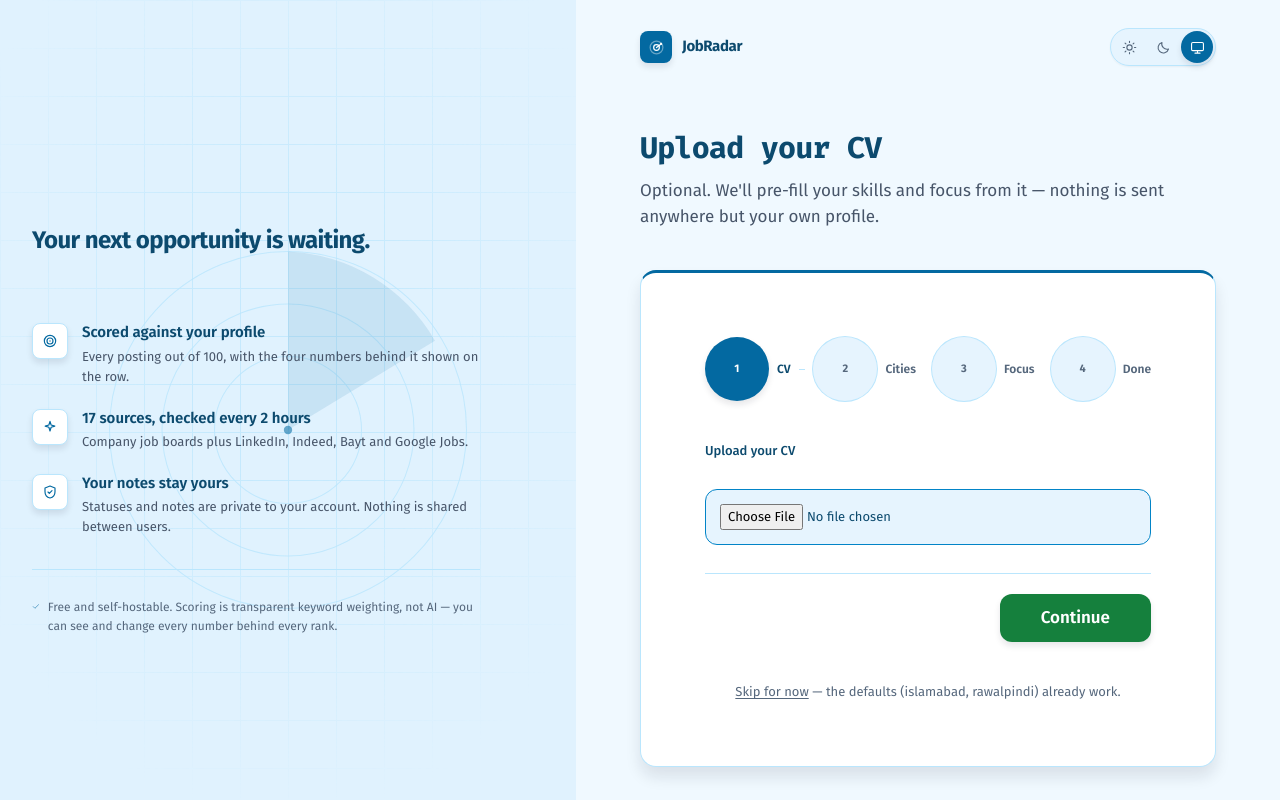
Test: onboarding › defaults to Islamabad and Rawalpindi
The image size is (1280, 800).
Check: the heading "Upload your CV" is shown, box [640,128,882,168]
Click the button "Continue" at (1075, 618), box [1000,594,1151,642]
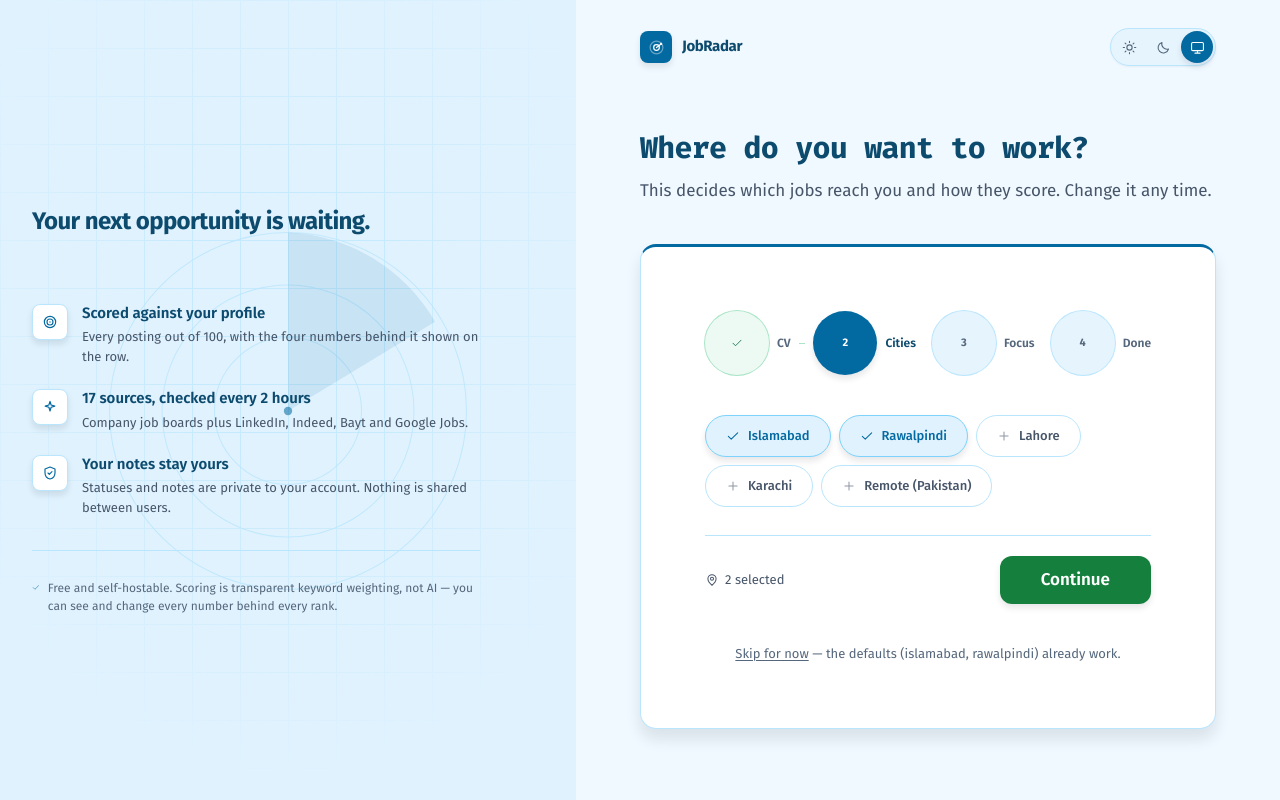
Check: the heading "Where do you want to work?" is shown, box [640,128,1088,168]
Check: the checkbox labelled "Islamabad" is checked, box [705,415,830,457]
Check: the checkbox labelled "Rawalpindi" is checked, box [838,415,968,457]
